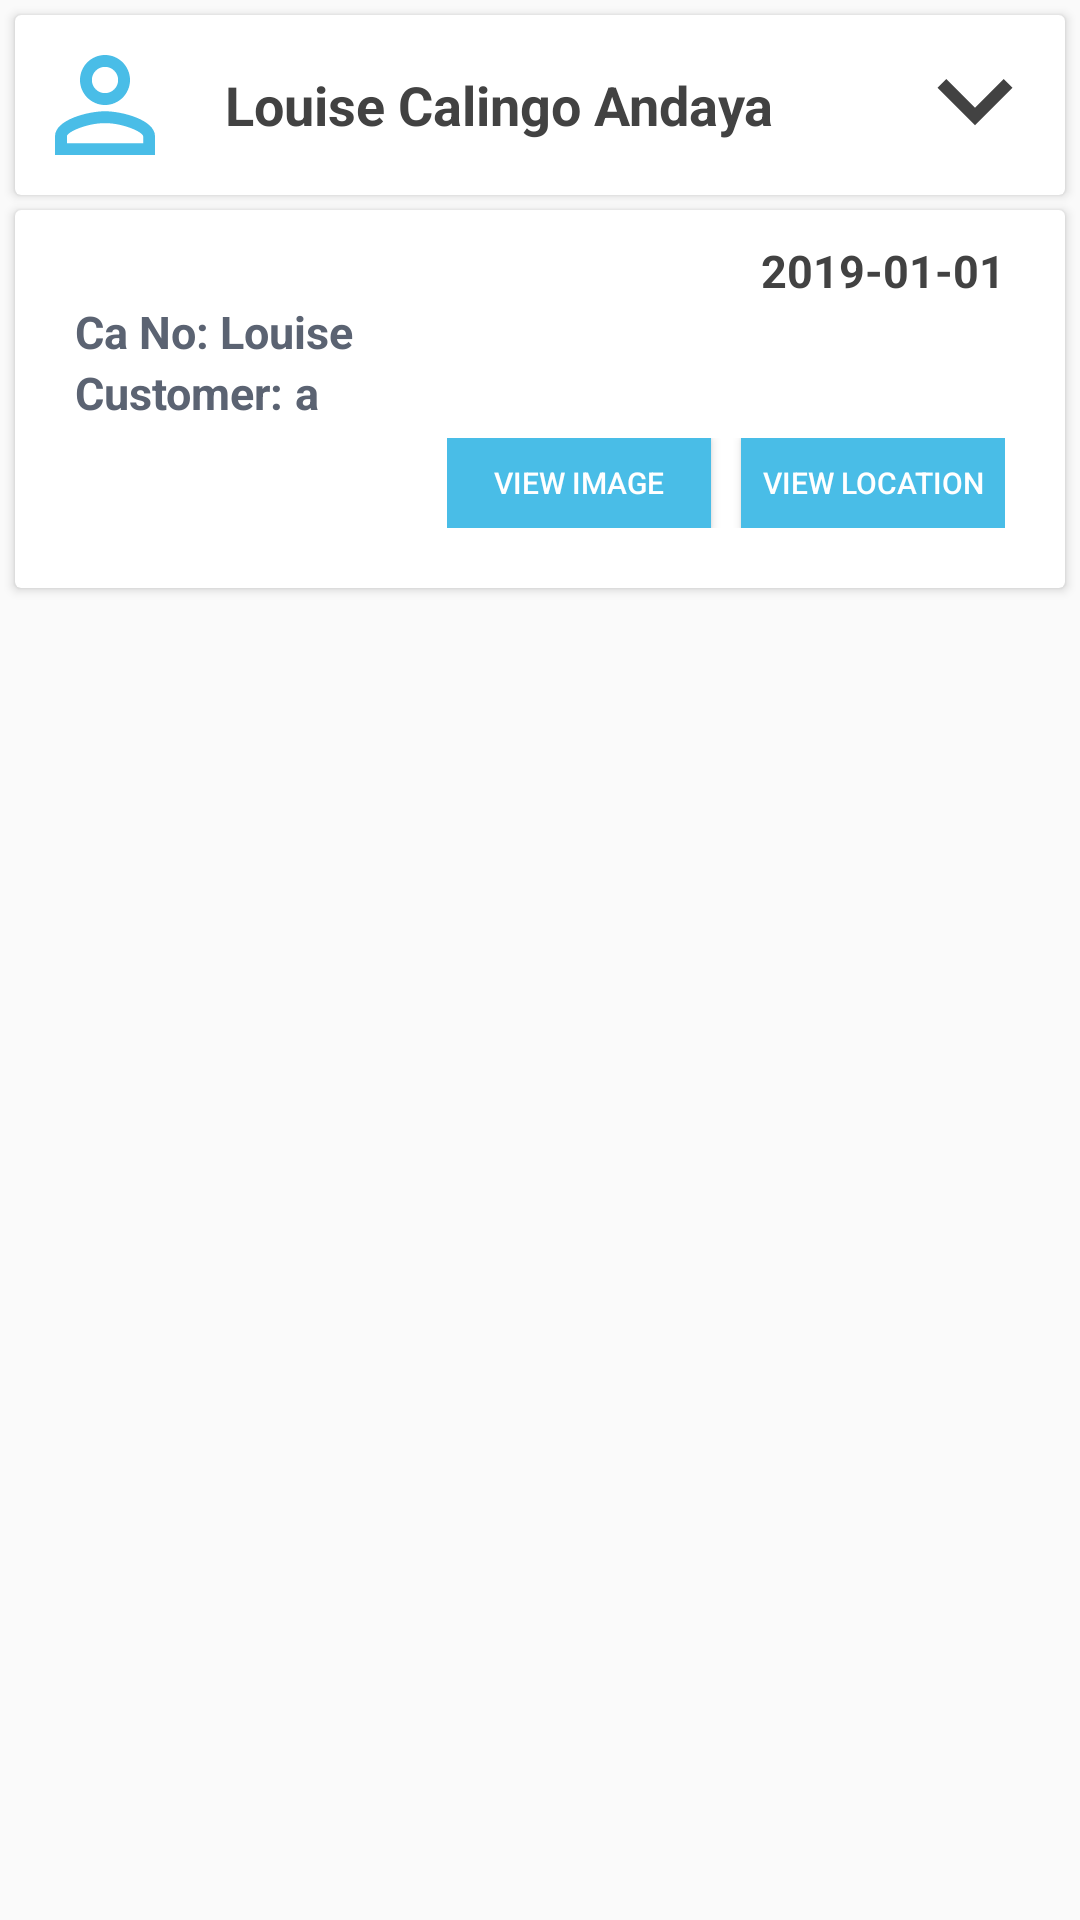

Named icons in this screenshot (1080×1920) and their centers, (x,y):
down: (975,102)
person: (105,105)
